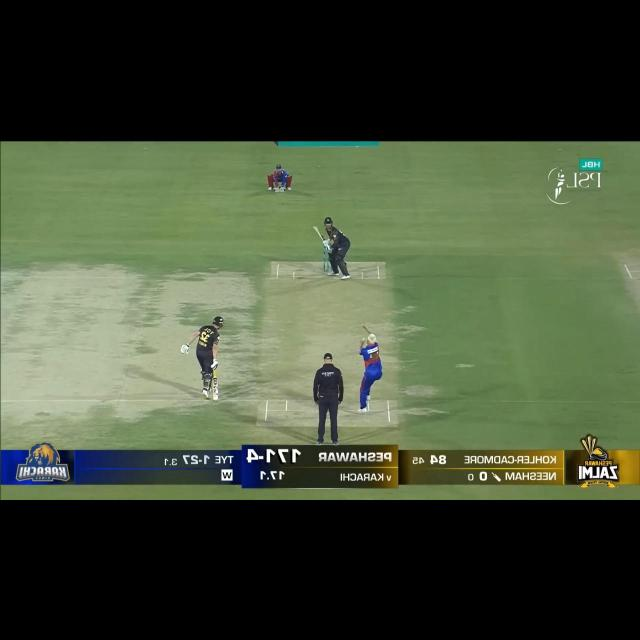bat: (313, 225, 326, 242), (210, 376, 218, 403)
toe: (212, 396, 219, 402), (312, 225, 318, 231)
